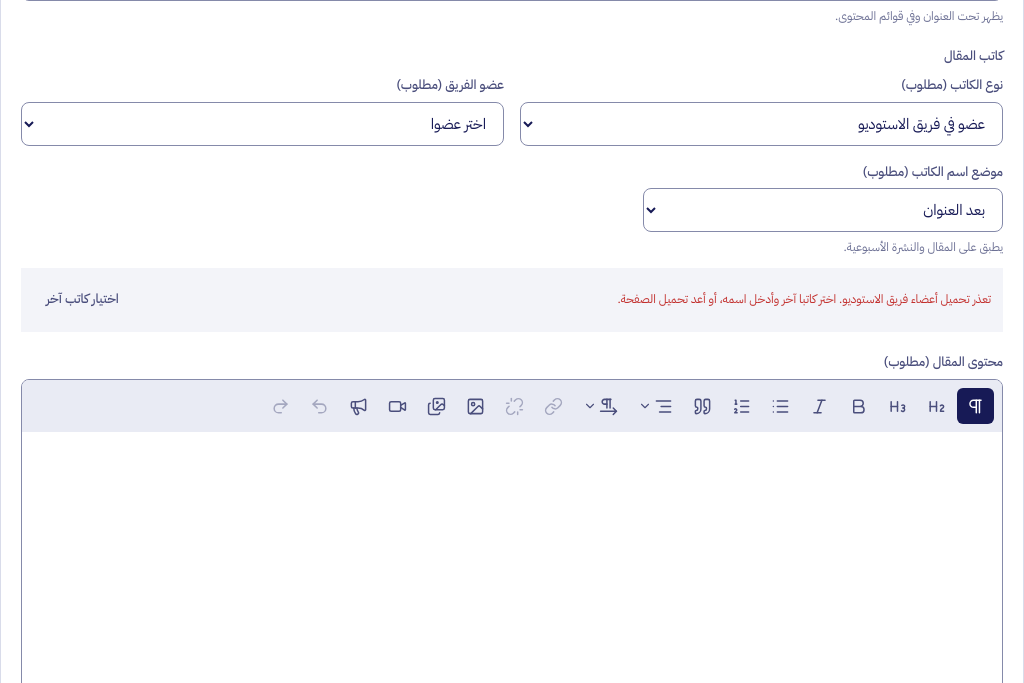
Scenario: ArticleEditorView › keeps custom attribution available when the Studio author list cannot load
(page scrolled)
Expected: the text "تعذر تحميل أعضاء فريق الاستوديو. اختر كاتبا آخر وأدخل اسمه، أو أعد تحميل الصفحة." is shown, [617, 290, 991, 310]
Click the button "اختيار كاتب آخر": (82, 300) [33, 278, 132, 322]
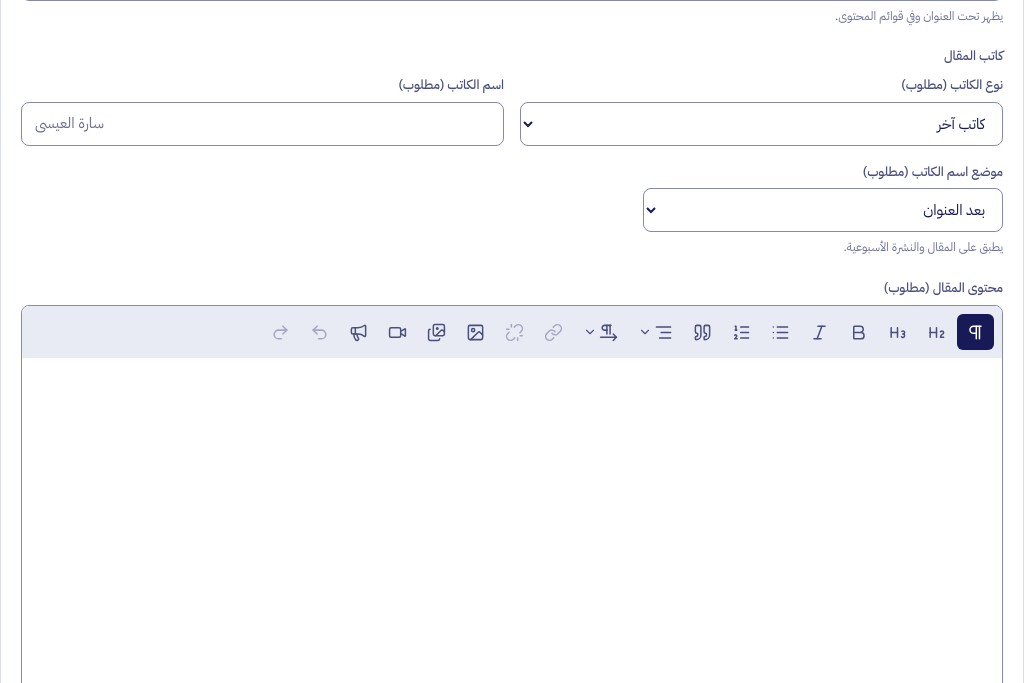
Expected: the field labelled "اسم الكاتب (مطلوب)" is enabled, [21, 102, 504, 146]
Expected: the text "تعذر تحميل أعضاء فريق الاستوديو" is gone
